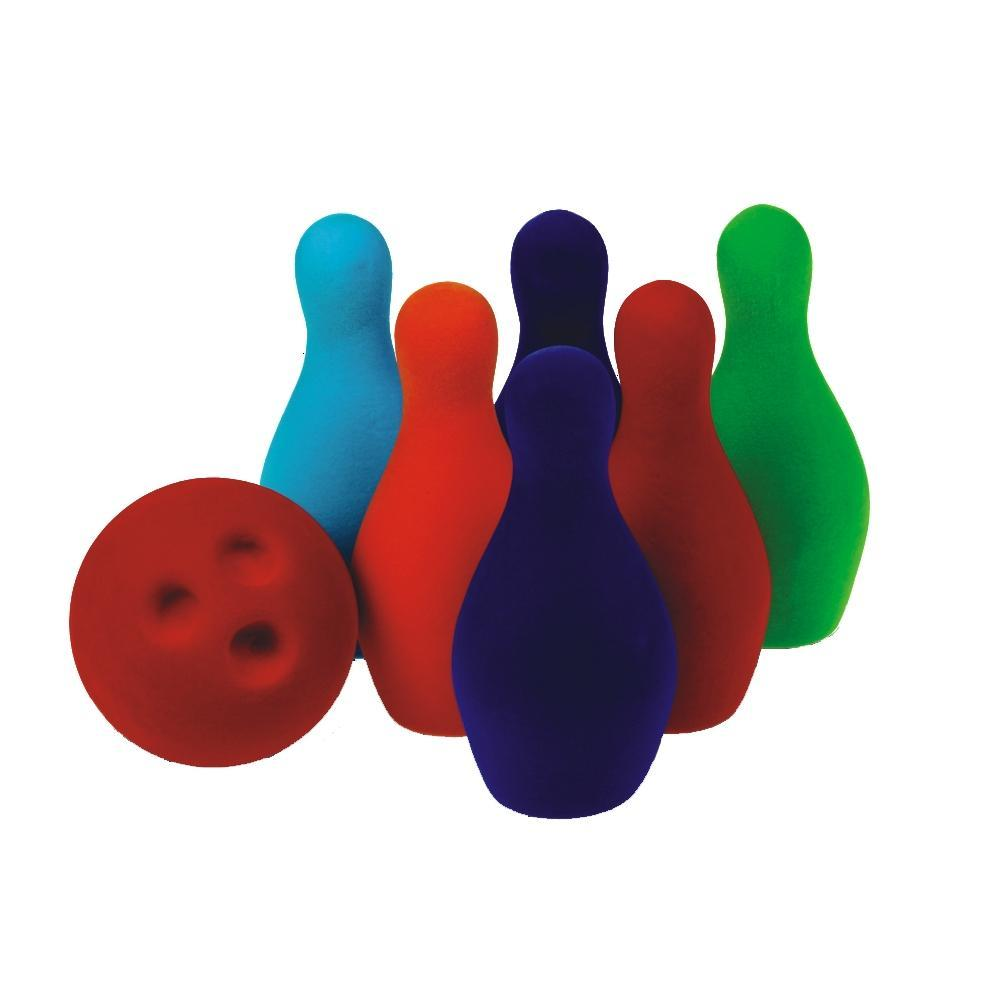red ball: (69, 474, 358, 772)
